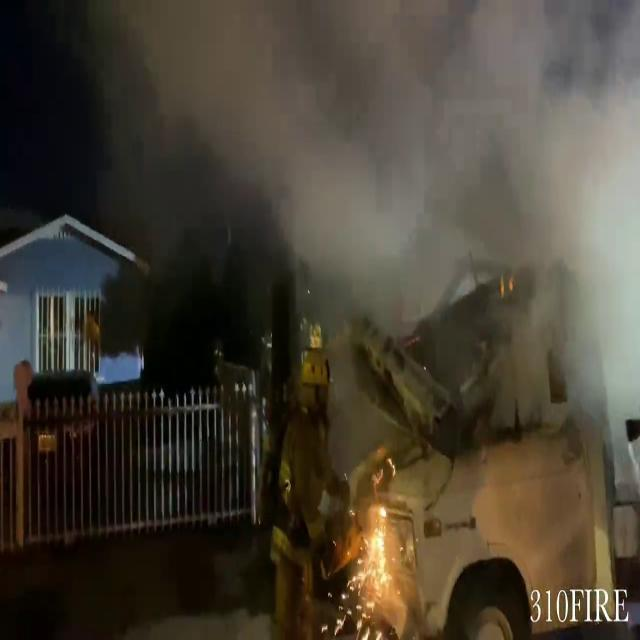Smoke: (0, 0, 638, 301)
